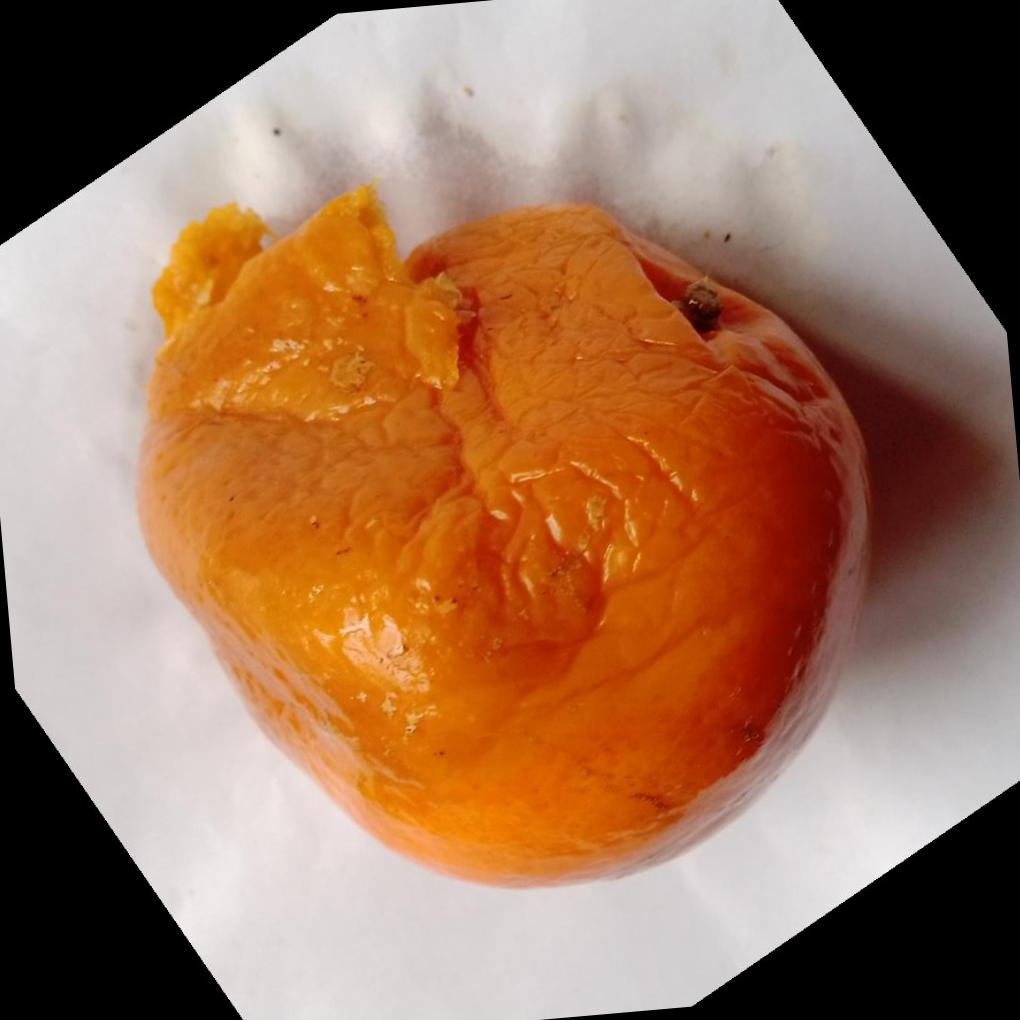FreshOrange: (129, 177, 870, 891)
